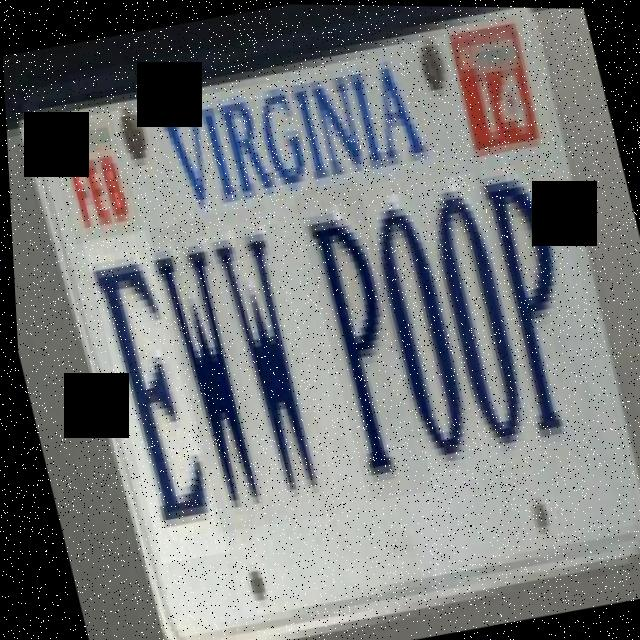0: (354, 179, 480, 474), (414, 170, 538, 468)
E: (80, 228, 223, 565)
P: (290, 178, 429, 502), (467, 132, 602, 463)
W: (200, 203, 335, 524), (142, 218, 273, 533)
